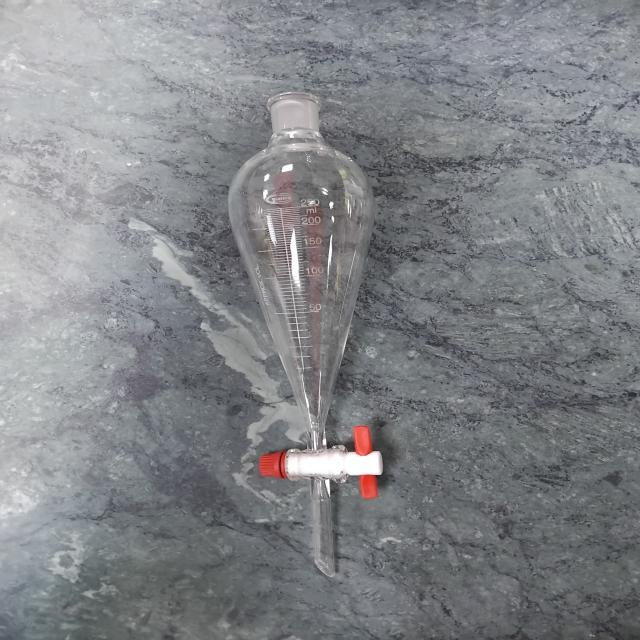Separating_Funnel: (174, 71, 450, 606)
